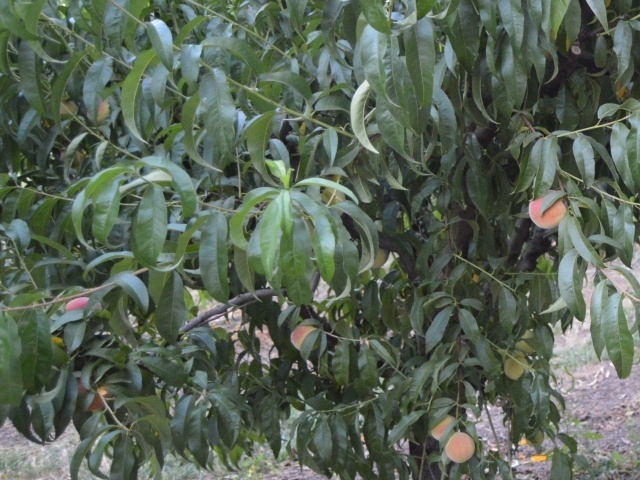peach: (524, 186, 569, 231), (72, 376, 108, 416), (61, 295, 108, 325), (442, 430, 479, 467), (287, 320, 324, 356), (426, 410, 461, 445), (499, 355, 527, 381)
